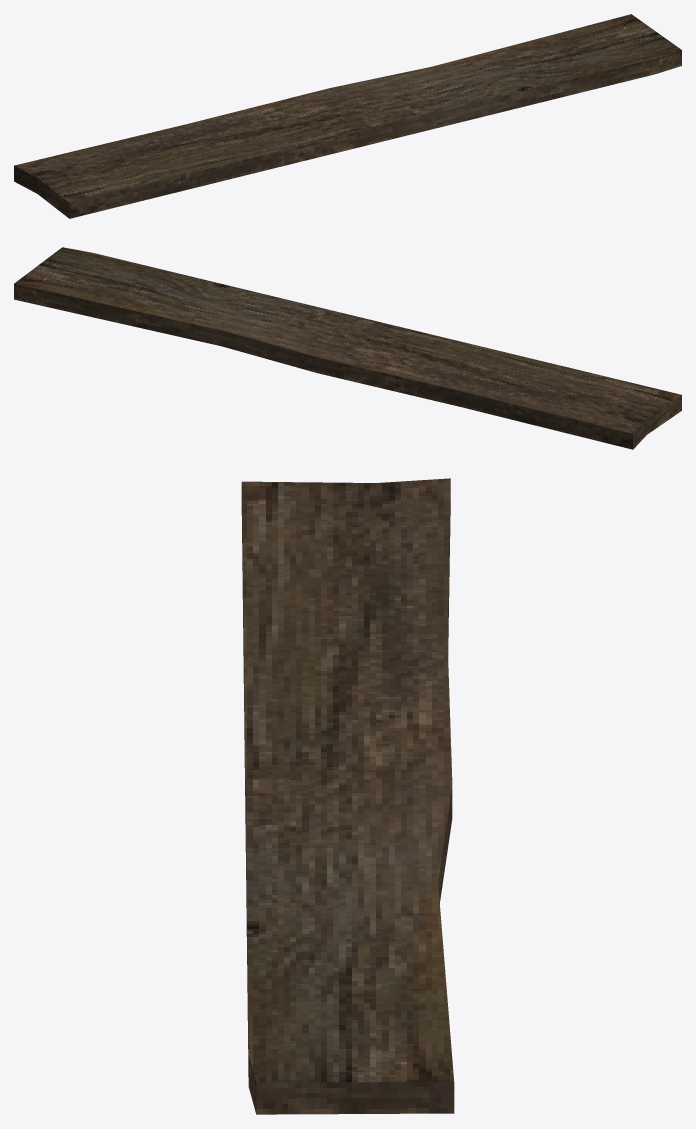
File: wooden_plank_1.glb
The picture shows the model from 3 angles, top to bottom: view 1: azimuth 30°, elevation 25°; view 2: azimuth 150°, elevation 25°; view 3: azimuth 270°, elevation 25°; orthographic projection. The views are drawn at different scales.
Parts seen in each view (by area): view 1: wooden_plank_1; view 2: wooden_plank_1; view 3: wooden_plank_1.
Boxes of the visible parts, box(x1,y1,x2,y2) form: wooden_plank_1: box(14, 14, 681, 218); wooden_plank_1: box(14, 247, 681, 449); wooden_plank_1: box(241, 478, 454, 1114).
Size of the model in its own units: 1.22 by 0.03 by 0.1816.
1 material, 1 textured.
